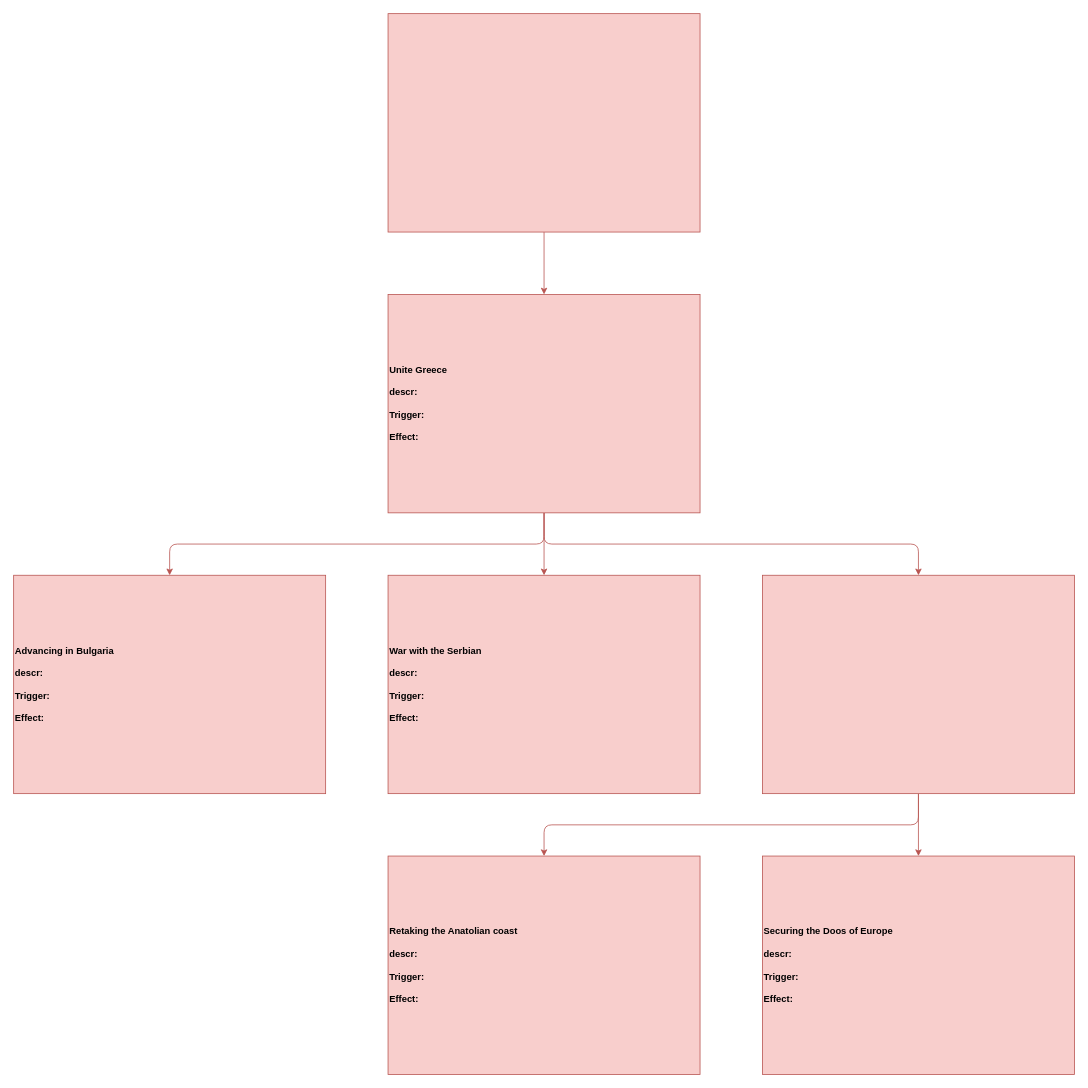
This 1088x1088 diagram has some shape labels left out. The shapes that lost their labels are listed below. From the top down, each one's box as (x1, y1, x2, y2) in pixels, then its label:
(387, 13, 700, 232): Thedore Komneno's Legacy descr: Trigger: Effect:
(762, 574, 1074, 794): Retaking Constantinople descr: Trigger: Effect:
